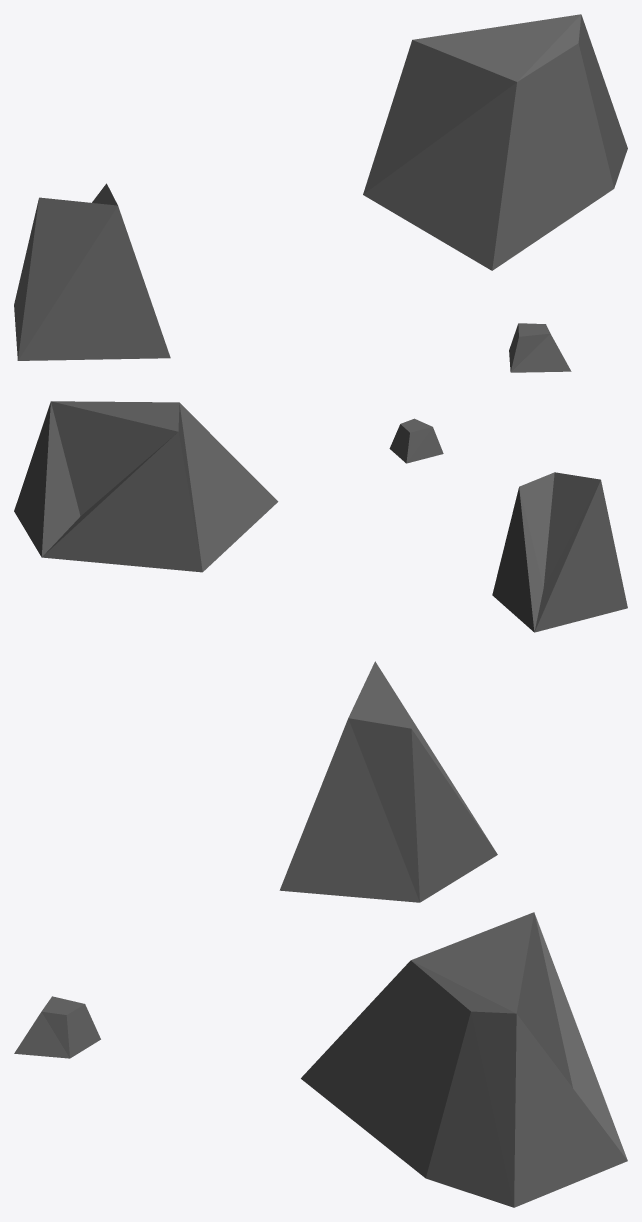
The model's file is Stone_Rail_11.FBX.
3 renders of one model, top to bottom at view 1: azimuth 30°, elevation 25°; view 2: azimuth 150°, elevation 25°; view 3: azimuth 270°, elevation 25°, orthographic. The views are drawn at different scales.
Parts seen in each view (by area): view 1: Stone_Rail_11; view 2: Stone_Rail_11; view 3: Stone_Rail_11.
Part boxes in pixels (<box>): Stone_Rail_11: <box>14,14,627,372</box>; Stone_Rail_11: <box>14,401,627,632</box>; Stone_Rail_11: <box>14,661,627,1207</box>.
Bounding box in the file's own units: 0.8254 × 0.1784 × 0.5577.
